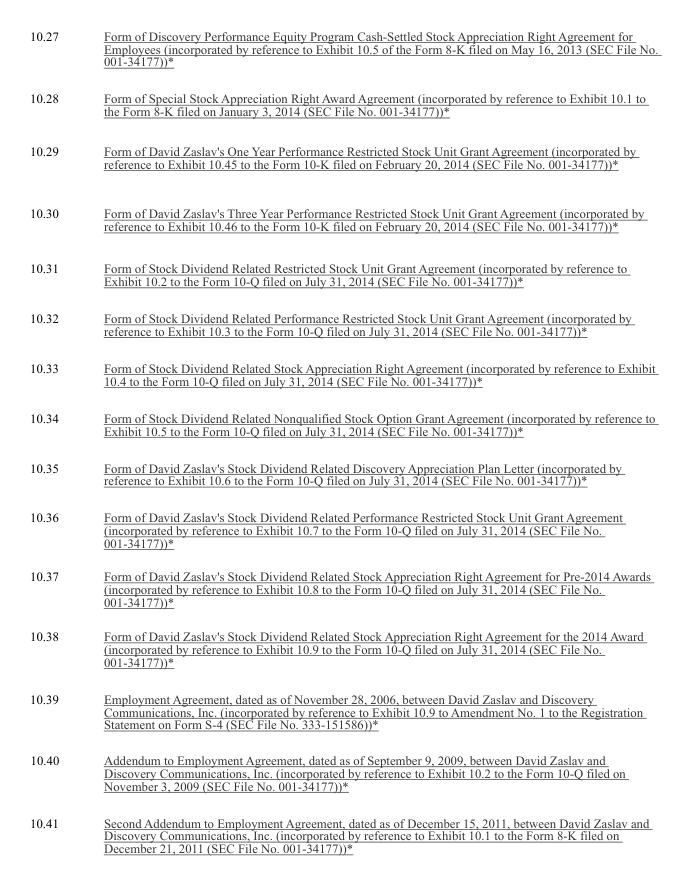table: (29, 28, 657, 854)
table column: (80, 28, 657, 854), (29, 28, 80, 854)
table row: (29, 679, 657, 741), (29, 741, 657, 803), (29, 498, 657, 559), (29, 618, 657, 679), (29, 559, 657, 618), (29, 130, 657, 188), (29, 188, 657, 246), (29, 246, 657, 299), (29, 28, 657, 79), (29, 79, 657, 130), (29, 803, 657, 854), (29, 299, 657, 349), (29, 398, 657, 448), (29, 448, 657, 498), (29, 349, 657, 398)
